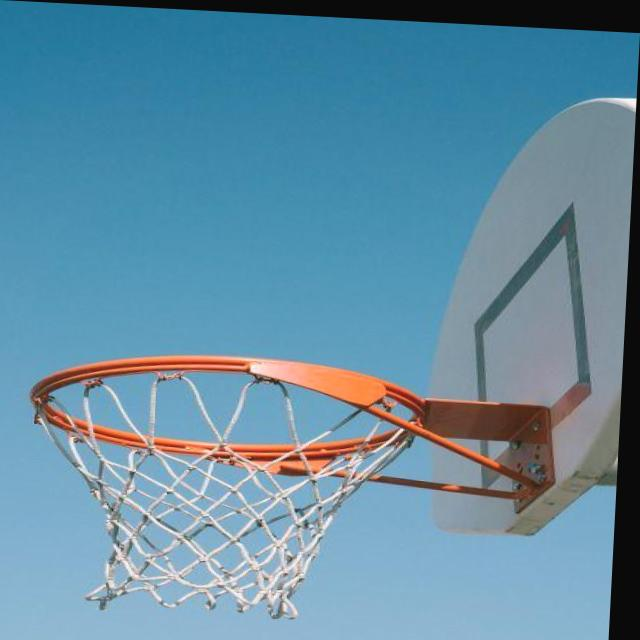hoop: (0, 342, 555, 640)
